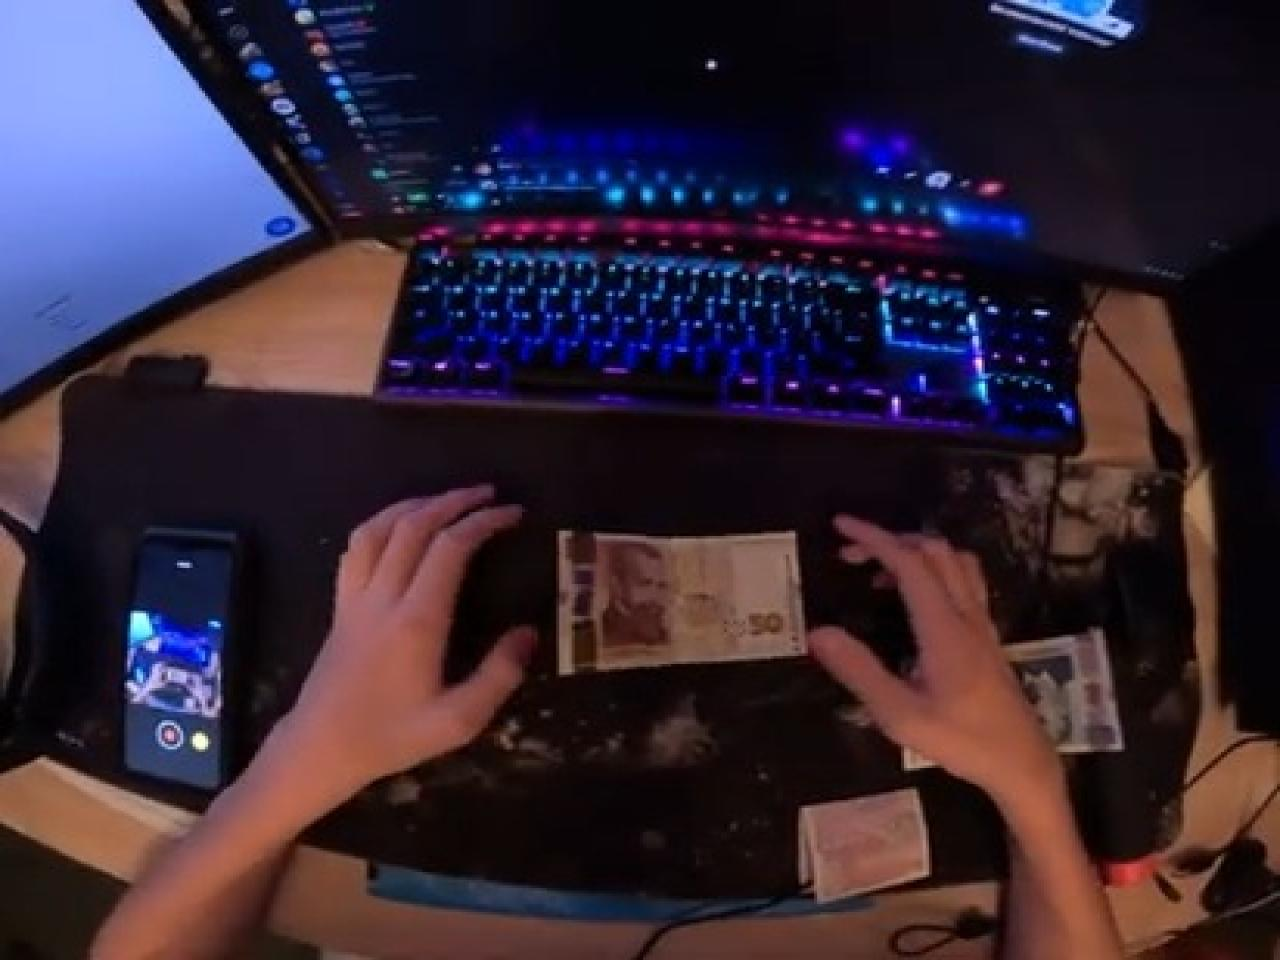50leva: (550, 530, 807, 675)
